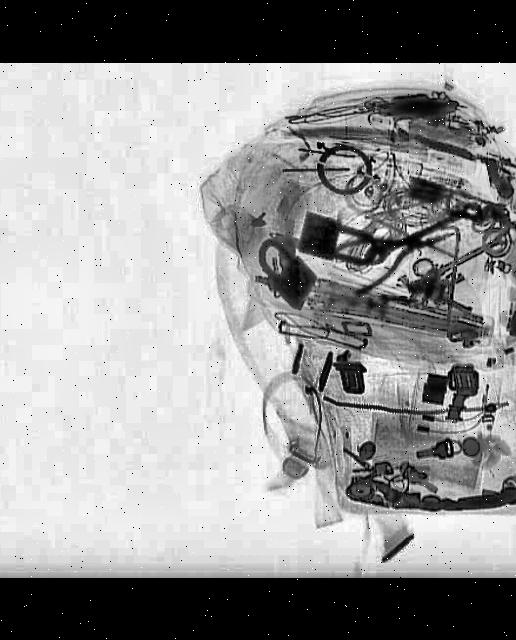Pliers: (331, 208, 461, 296)
